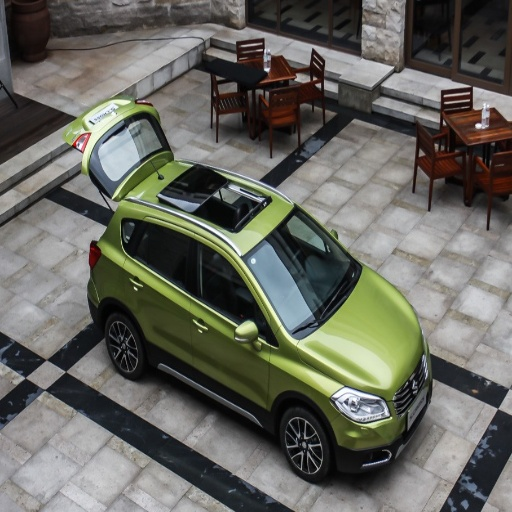back_right_door: (125, 214, 196, 364)
front_bumper: (334, 410, 410, 472)
front_right_door: (192, 229, 265, 419)
front_right_light: (335, 388, 387, 422)
